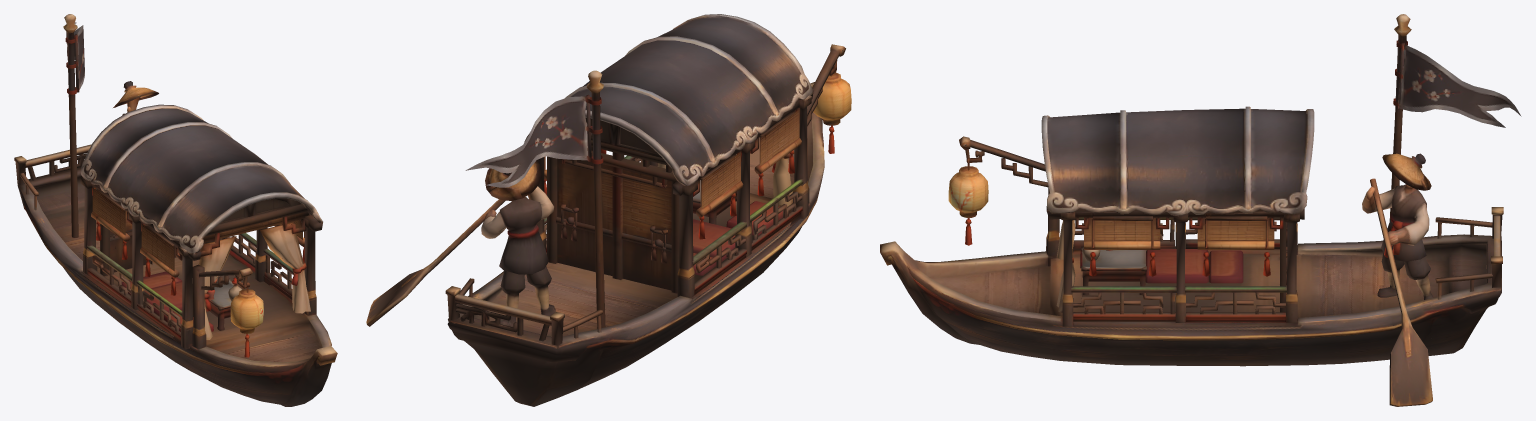
File: boat_grok.glb
3 renders of one model, left to right at view 1: azimuth 30°, elevation 25°; view 2: azimuth 150°, elevation 25°; view 3: azimuth 270°, elevation 25°, orthographic. The views are drawn at different scales.
Parts seen in each view (by area): view 1: tripo_node_7a341d75-048c-40bd-8d8b-60bdeb000c57; view 2: tripo_node_7a341d75-048c-40bd-8d8b-60bdeb000c57; view 3: tripo_node_7a341d75-048c-40bd-8d8b-60bdeb000c57.
Part boxes in pixels (<box>): tripo_node_7a341d75-048c-40bd-8d8b-60bdeb000c57: <box>14,14,337,406</box>; tripo_node_7a341d75-048c-40bd-8d8b-60bdeb000c57: <box>366,14,851,406</box>; tripo_node_7a341d75-048c-40bd-8d8b-60bdeb000c57: <box>880,14,1521,406</box>.
Size of the model in its own units: 0.4751 by 0.5405 by 0.9995.
1 material, 1 textured.
